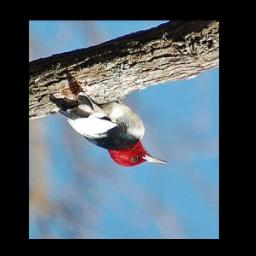Woodpecker: (57, 90, 171, 168)
